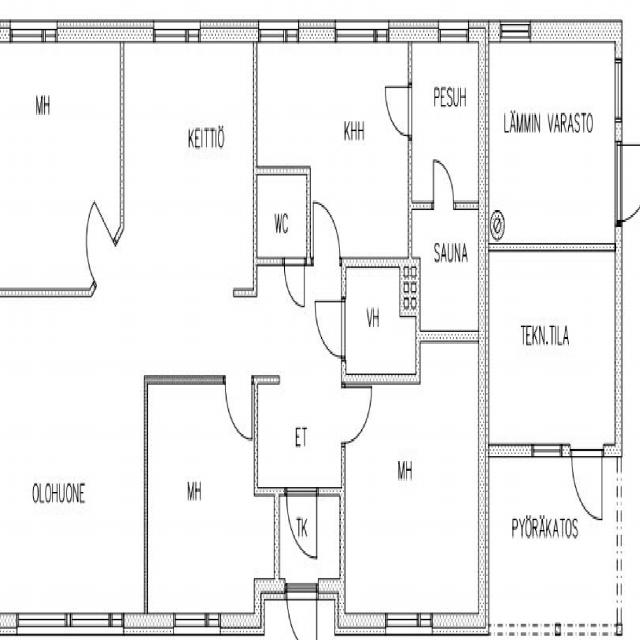door: (74, 198, 116, 286), (572, 444, 602, 519), (286, 488, 317, 559), (614, 144, 640, 222), (287, 578, 316, 640), (225, 375, 252, 441), (341, 387, 372, 443), (315, 301, 345, 356), (314, 203, 339, 266), (386, 88, 412, 134), (433, 159, 454, 209), (284, 258, 304, 307)
